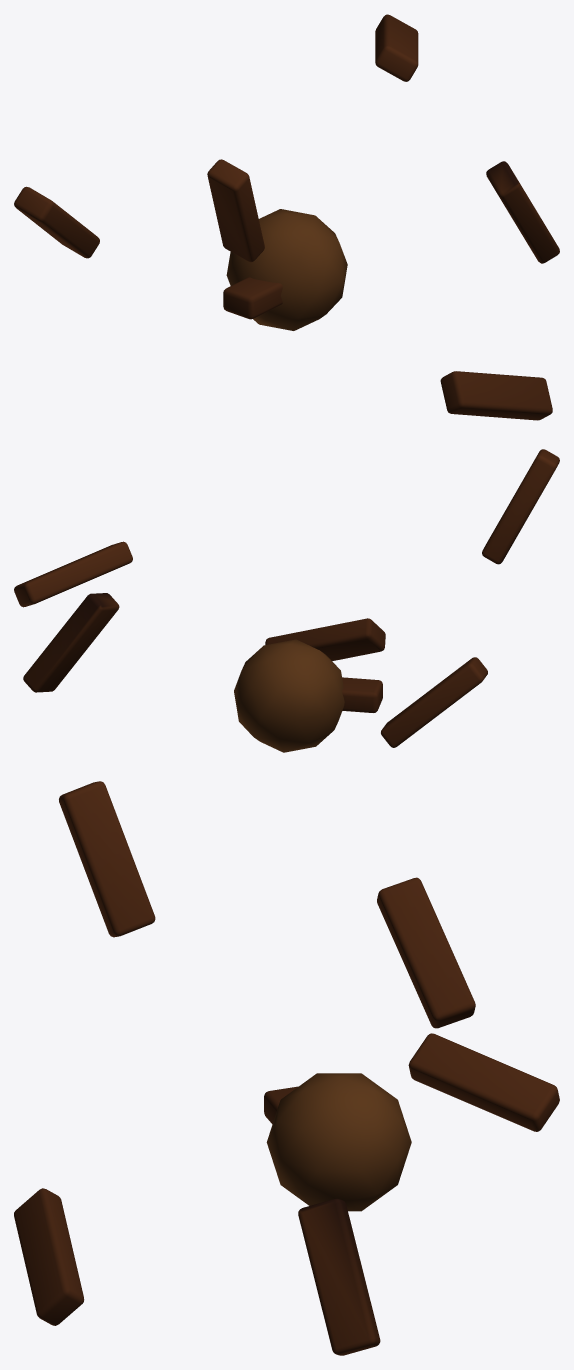
File: wood-impact-debris.obj
3 views of the same model, one above another, from view 1: azimuth 30°, elevation 25°; view 2: azimuth 150°, elevation 25°; view 3: azimuth 270°, elevation 25° (orthographic). The views are drawn at different scales.
Visible parts, largest first — view 1: wood-impact-debris; view 2: wood-impact-debris; view 3: wood-impact-debris.
Boxes of the visible parts, x1,y1,x2,y2 form: wood-impact-debris: (14, 14, 559, 420); wood-impact-debris: (14, 449, 559, 752); wood-impact-debris: (14, 781, 559, 1355).
Size of the model in its own units: 0.4794 by 0.2839 by 0.3763.
